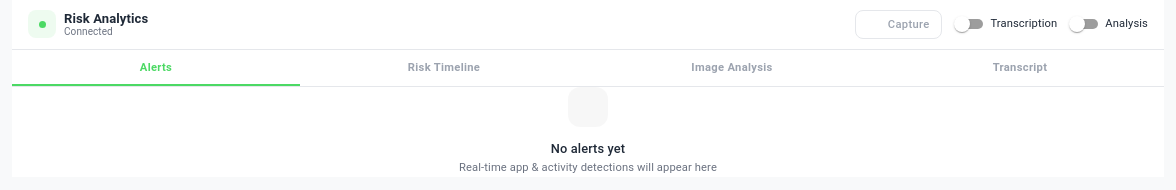
Scenario: AnalyticsPanel › Image Analysis tab empty state
This screenshot has width=1176, height=190.
Step 1. Click the tab "Image Analysis" → [732, 68], box [588, 50, 876, 86]
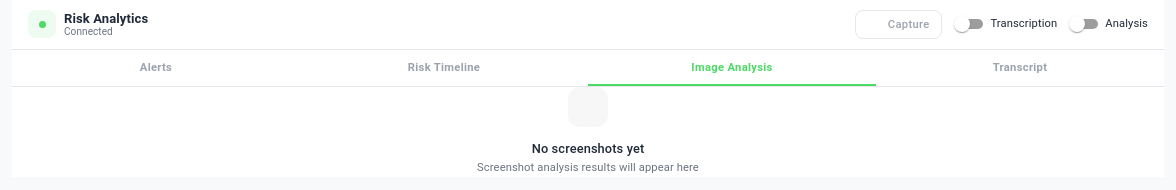
expect the text "No screenshots yet" is shown: met, box [532, 141, 644, 156]
